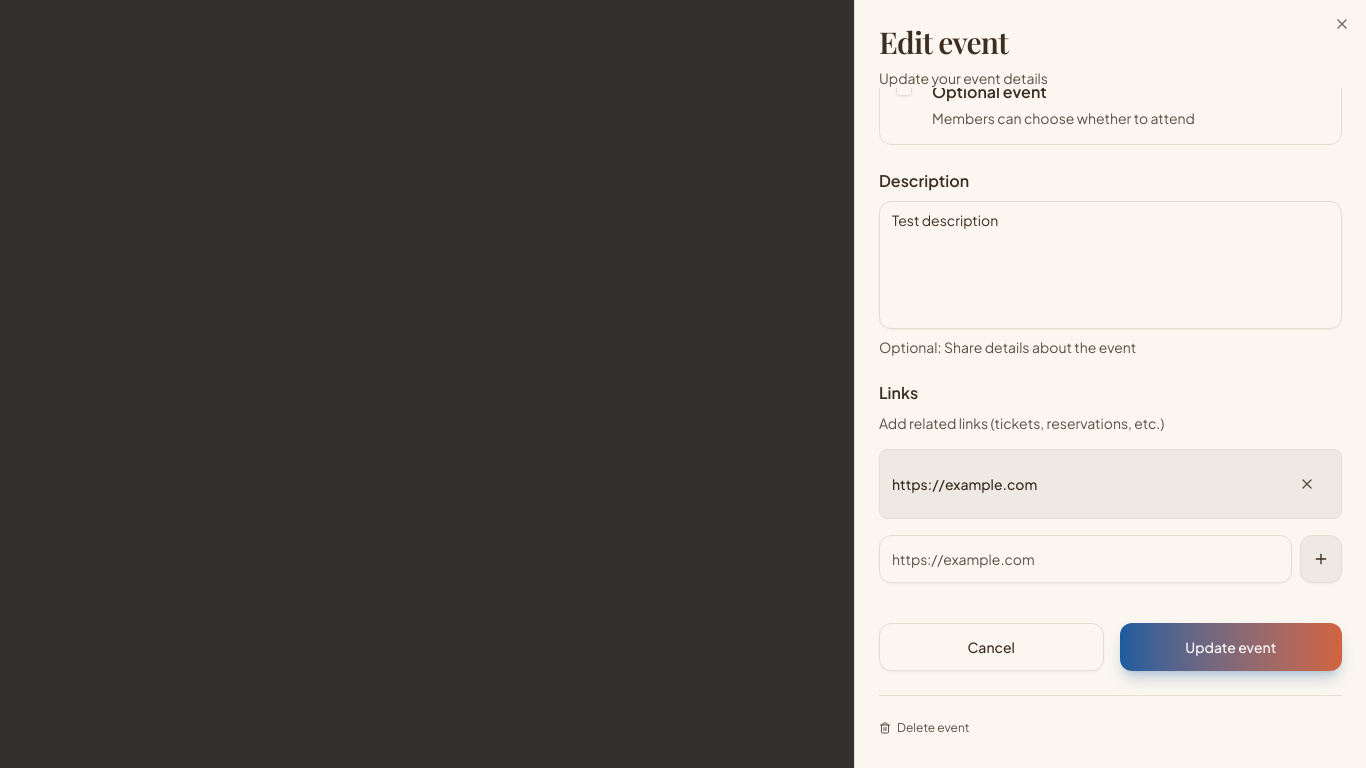
Test: EditEventDialog › Links management › allows adding new links
(page scrolled)
Click the field named "link url" at coordinates (1086, 559), box top-left (879, 535), bottom-right (1292, 583)
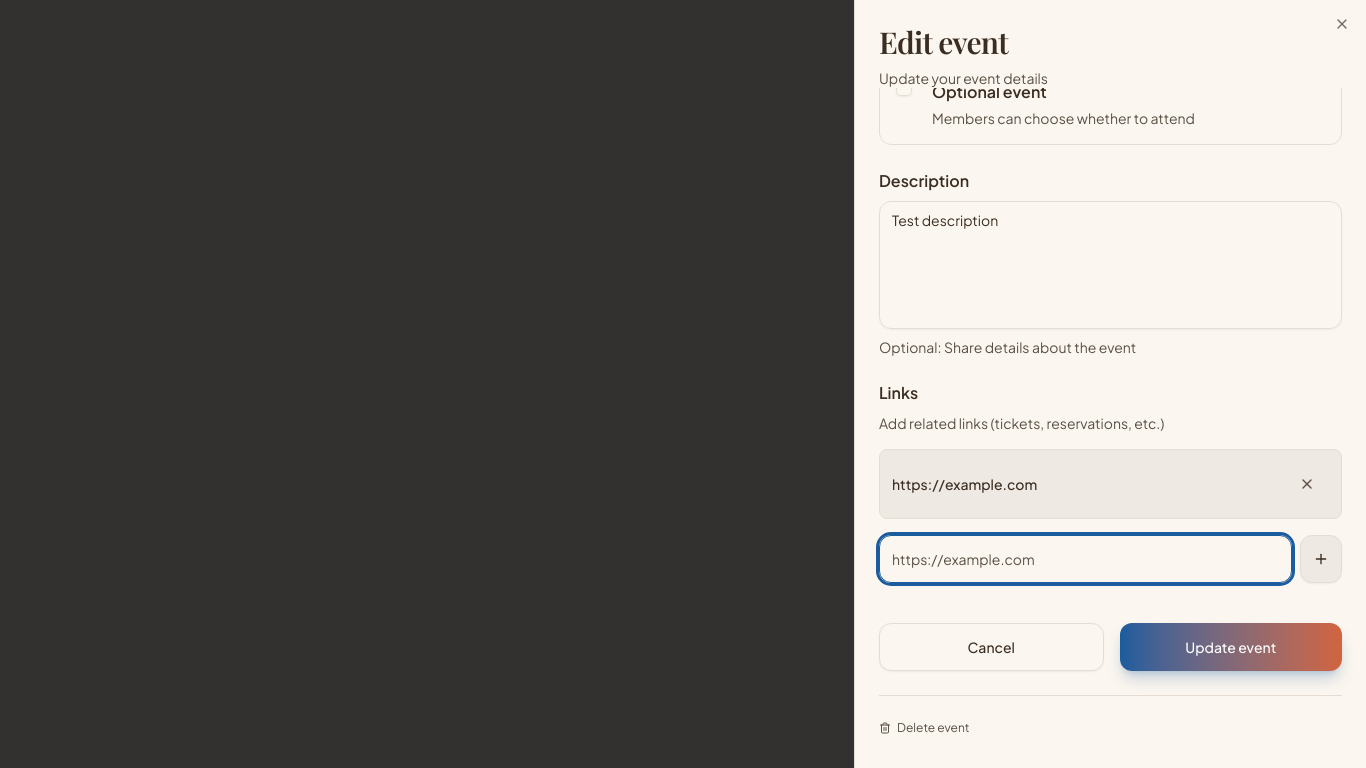
Type keys "https://newlink.com"
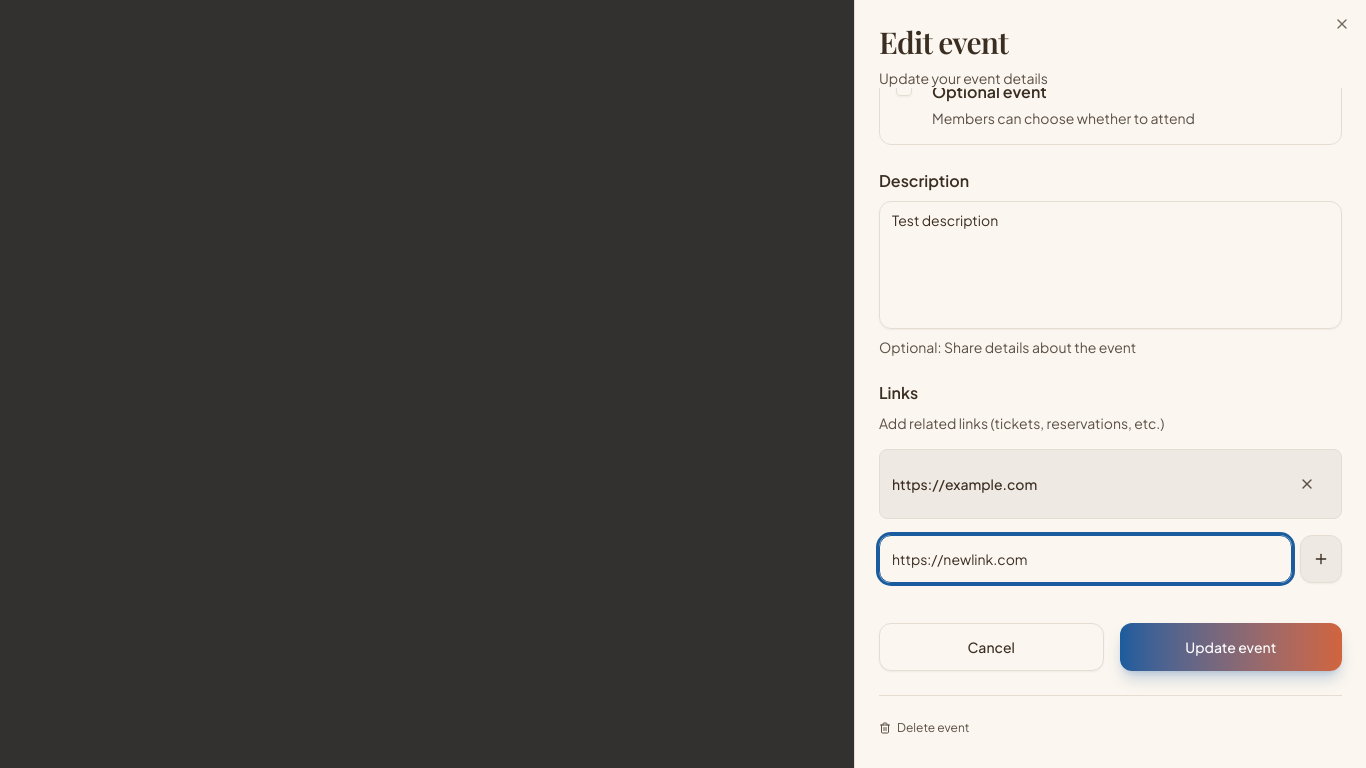
Click the button without text below "Optional: Share details about the event" at coordinates (1321, 559), box top-left (1300, 535), bottom-right (1342, 583)
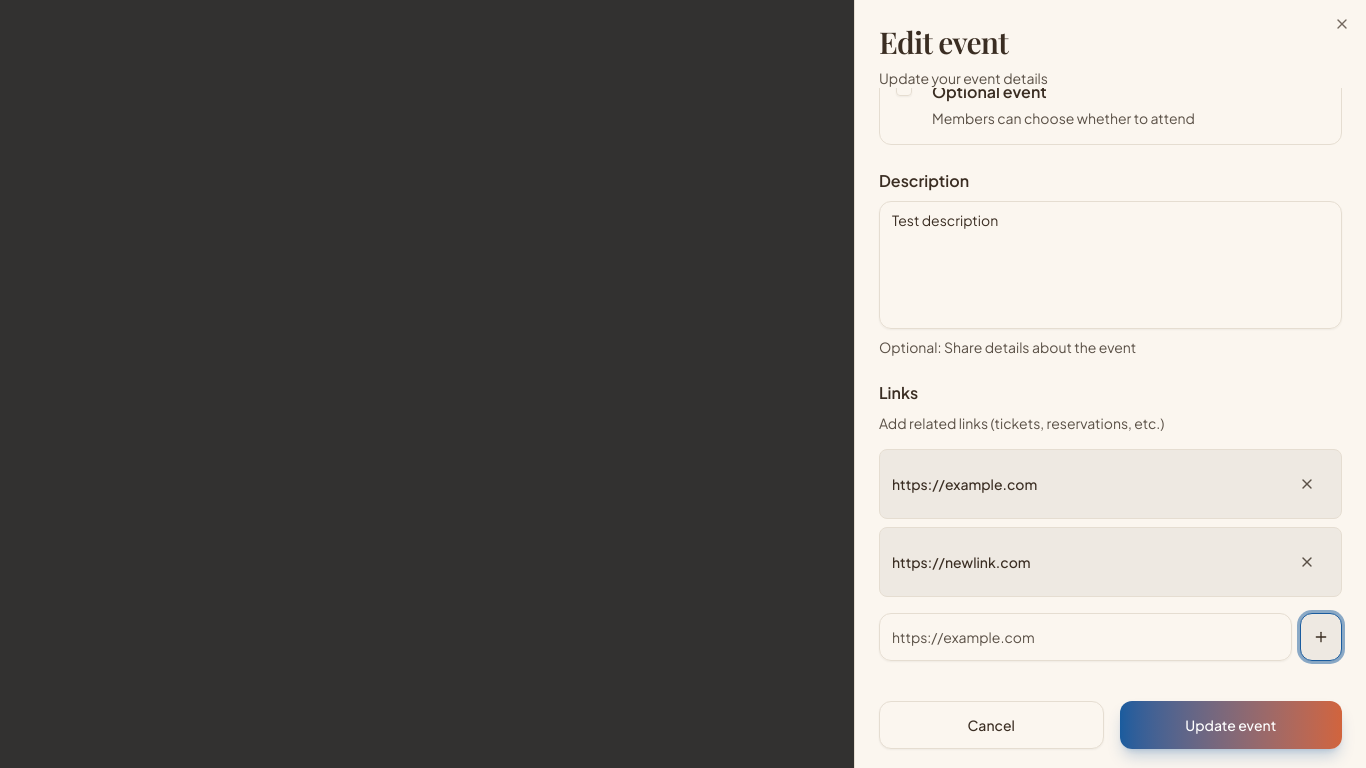
Now the text "https://newlink.com" is shown, box top-left (892, 552), bottom-right (1031, 572)
